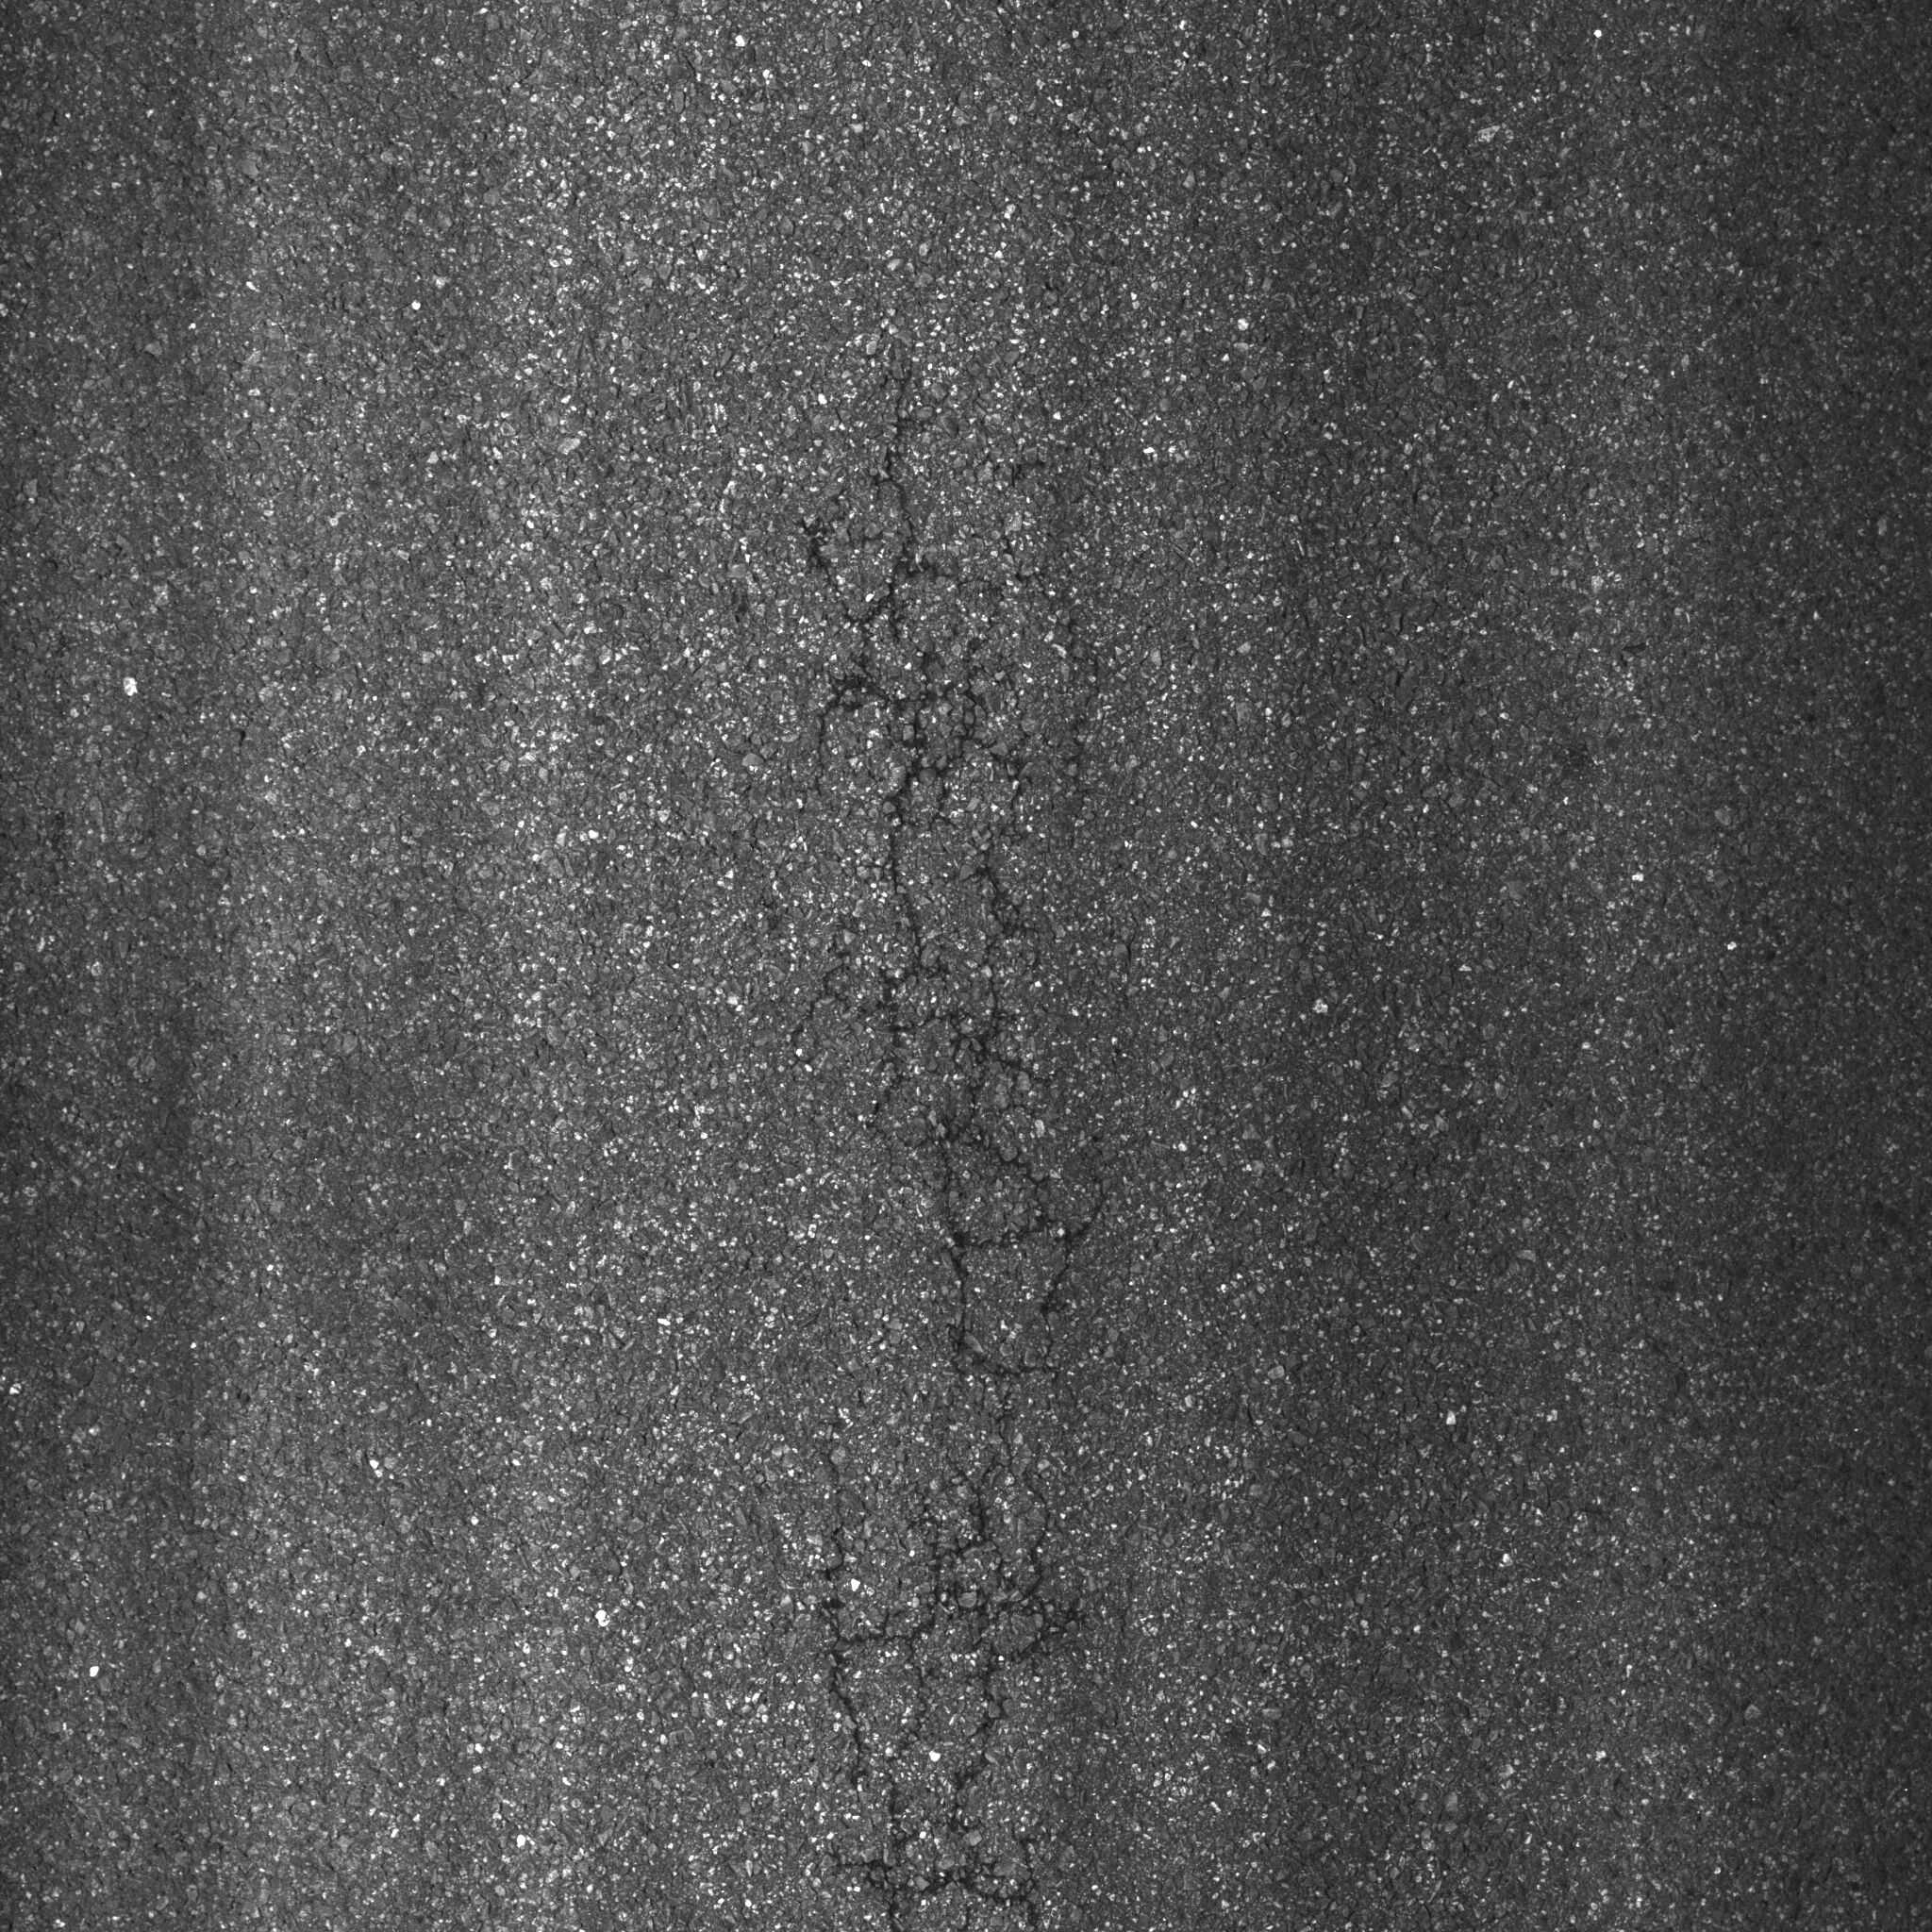alligator: (725, 382, 1251, 1932)
